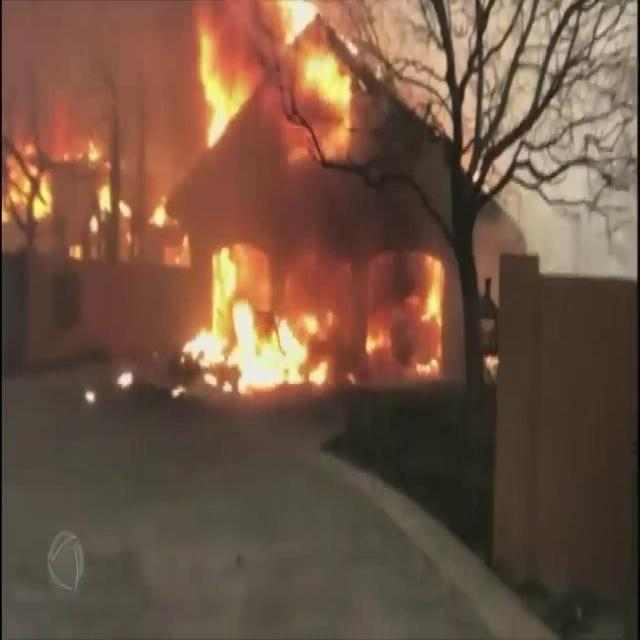Fire: (176, 292, 340, 400), (365, 271, 441, 384), (192, 21, 252, 151), (286, 50, 344, 164), (1, 132, 55, 222), (89, 182, 130, 235), (76, 129, 112, 169), (147, 195, 175, 240), (81, 383, 97, 407), (116, 373, 134, 391), (70, 243, 82, 257)
